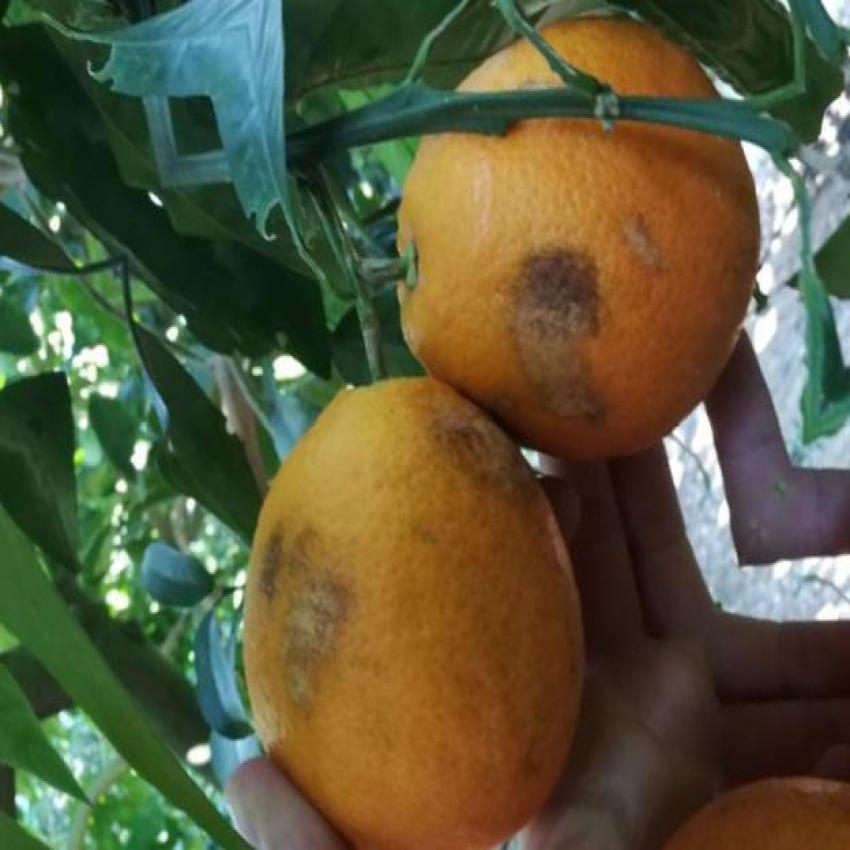Mal estado: (372, 35, 776, 478), (236, 359, 584, 847)
